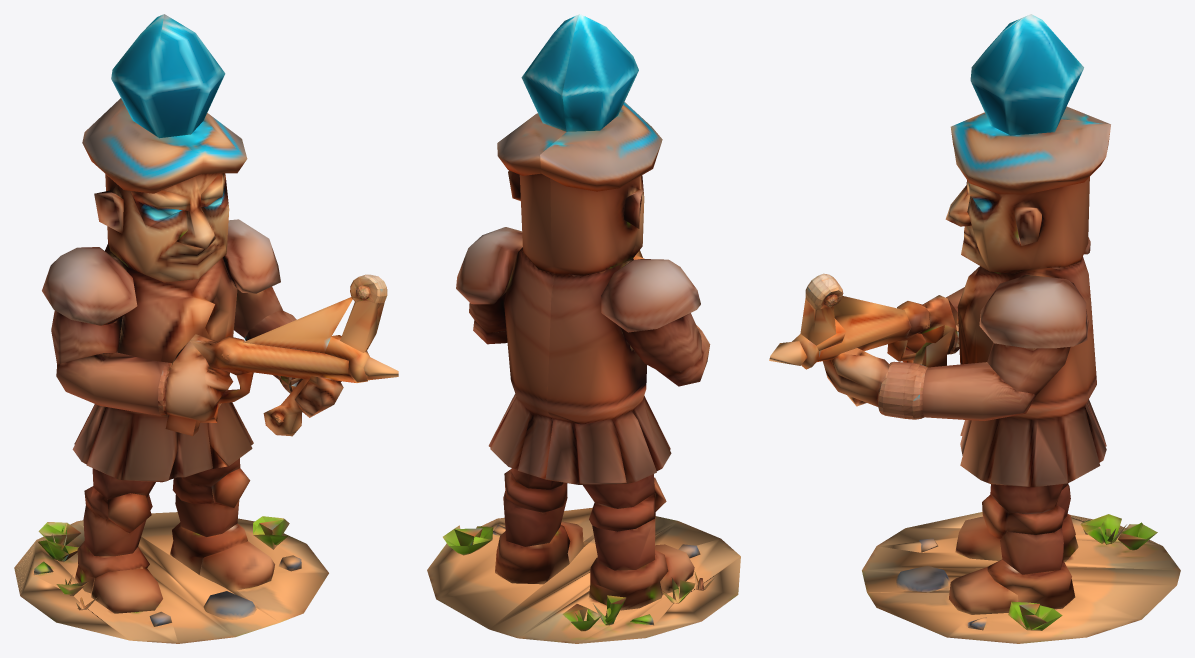
The model's file is sentry-ward.glb.
3 views of the same model, side by side, from view 1: azimuth 30°, elevation 25°; view 2: azimuth 150°, elevation 25°; view 3: azimuth 270°, elevation 25° (orthographic).
Visible parts, largest first — view 1: part_00000001; view 2: part_00000001; view 3: part_00000001.
Part boxes in pixels (bbox=[...]): part_00000001: bbox=[14, 14, 398, 643]; part_00000001: bbox=[427, 14, 740, 643]; part_00000001: bbox=[769, 14, 1180, 643].
Size of the model in its own units: 0.9551 by 1.9 by 1.26.
Materials: 1 (1 with a texture image).
